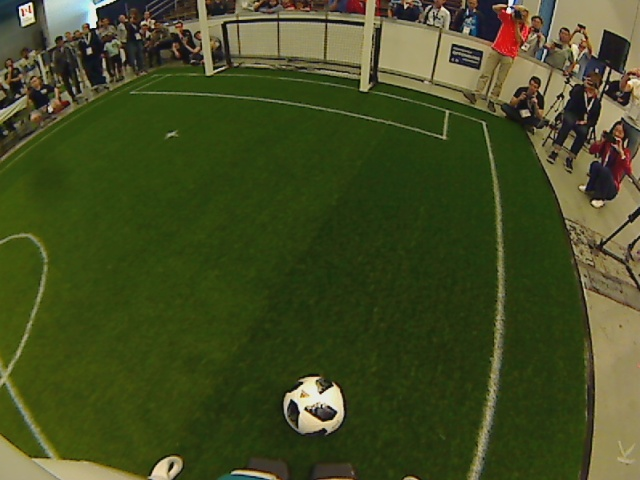ball: (279, 374, 346, 439)
